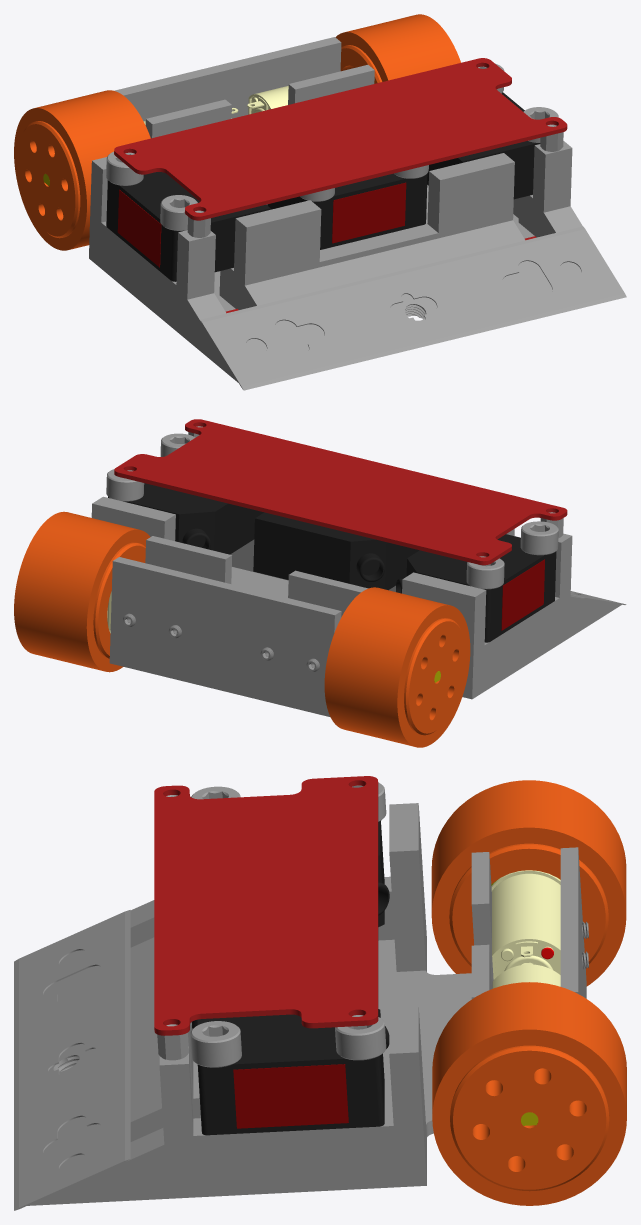
Rendered from Ensamble Robot 2 v1.fbx.
The picture shows the model from 3 angles, top to bottom: view 1: azimuth 30°, elevation 25°; view 2: azimuth 150°, elevation 25°; view 3: azimuth 270°, elevation 25°; orthographic projection. The views are drawn at different scales.
Parts seen in each view (by area): view 1: Body1 (×10), Body3; view 2: Body1 (×11); view 3: Body1 (×10), Body3 (×2).
Part boxes in pixels (x1=…): Body1 (×10): x1=14, y1=14, x2=626, y2=390; Body3: x1=247, y1=86, x2=288, y2=114; Body1 (×11): x1=14, y1=419, x2=621, y2=747; Body1 (×10): x1=14, y1=776, x2=626, y2=1210; Body3 (×2): x1=491, y1=870, x2=560, y2=988.
Bounding box in the file's own units: 103 × 35.29 × 104.
